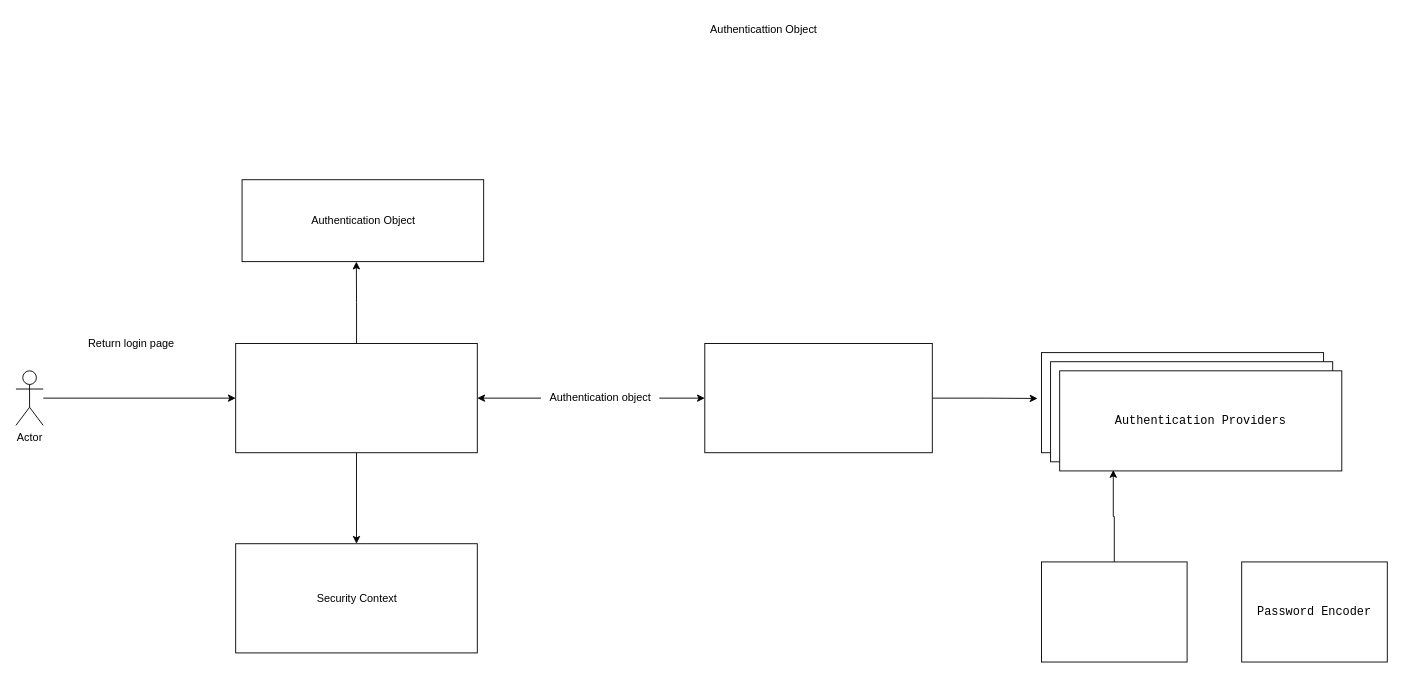
The diagram is 1403 pixels wide and 678 high, and some of its shapes have lost their labels. Here are the shapes that lost their labels. From the top down, the centre of each, then its label:
point (356, 398): Spring Security filter
point (818, 398): Authentication Manager
point (1114, 611): User details manager
